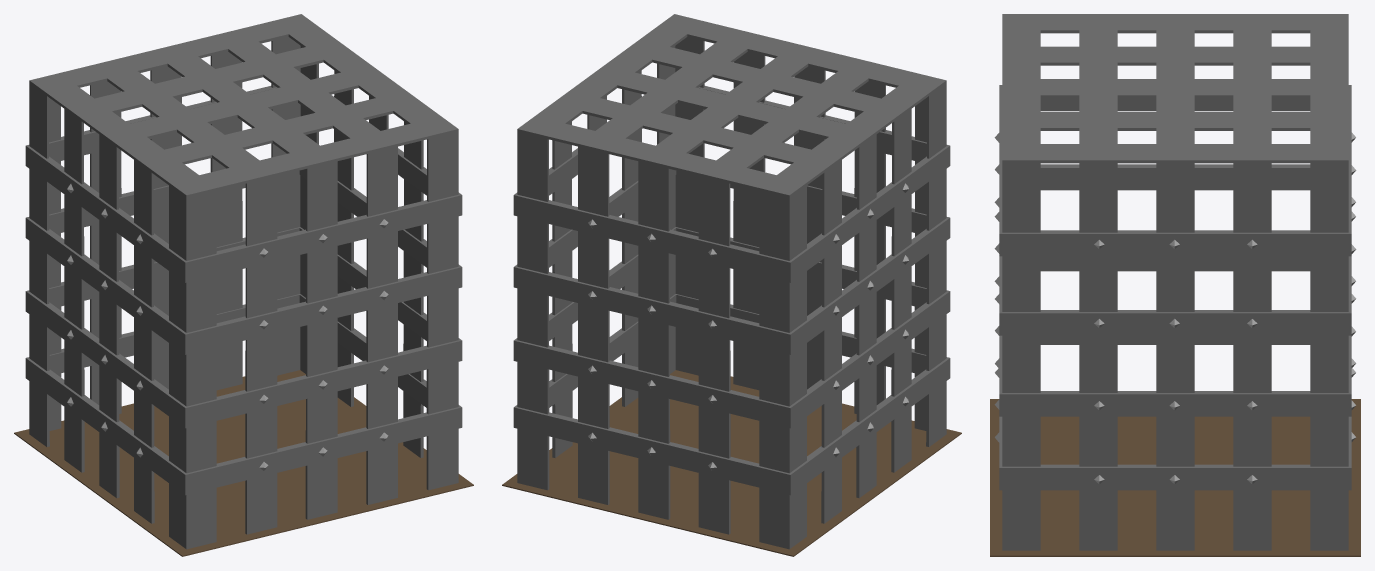
File: gabbia (2).fbx
3 views of the same model, side by side, from view 1: azimuth 30°, elevation 25°; view 2: azimuth 150°, elevation 25°; view 3: azimuth 270°, elevation 25° (orthographic). The views are drawn at different scales.
Visible parts, largest first — view 1: torture_device_011; view 2: torture_device_011; view 3: torture_device_011.
Part boxes in pixels (x1,y1,x2,y2): torture_device_011: [14, 14, 473, 556]; torture_device_011: [502, 14, 961, 556]; torture_device_011: [990, 14, 1360, 556].
Bounding box in the file's own units: 214 × 249 × 214.
